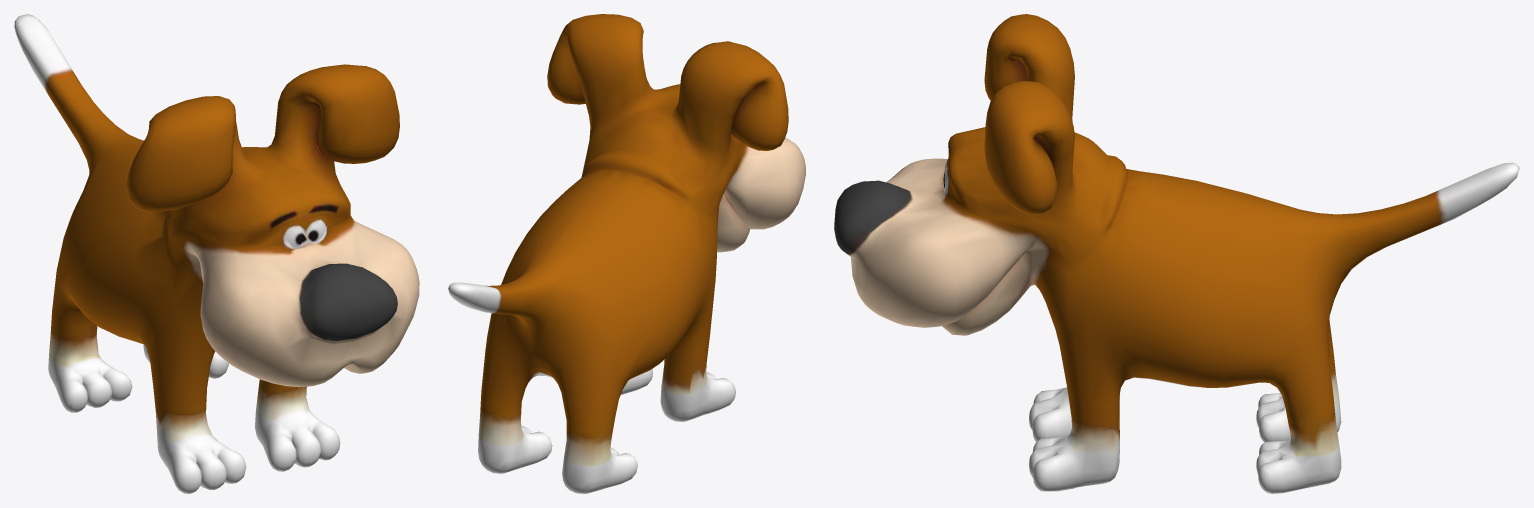
Rendered from dog.glb.
3 views of the same model, side by side, from view 1: azimuth 30°, elevation 25°; view 2: azimuth 150°, elevation 25°; view 3: azimuth 270°, elevation 25° (orthographic). The views are drawn at different scales.
Parts seen in each view (by area): view 1: CartoonDog_Dog_0; view 2: CartoonDog_Dog_0; view 3: CartoonDog_Dog_0.
Boxes of the visible parts, <box> form: CartoonDog_Dog_0: <box>14,14,419,493</box>; CartoonDog_Dog_0: <box>448,14,805,493</box>; CartoonDog_Dog_0: <box>834,14,1519,493</box>.
Size of the model in its own units: 2.84 by 4.07 by 6.29.
1 material, 1 textured.
